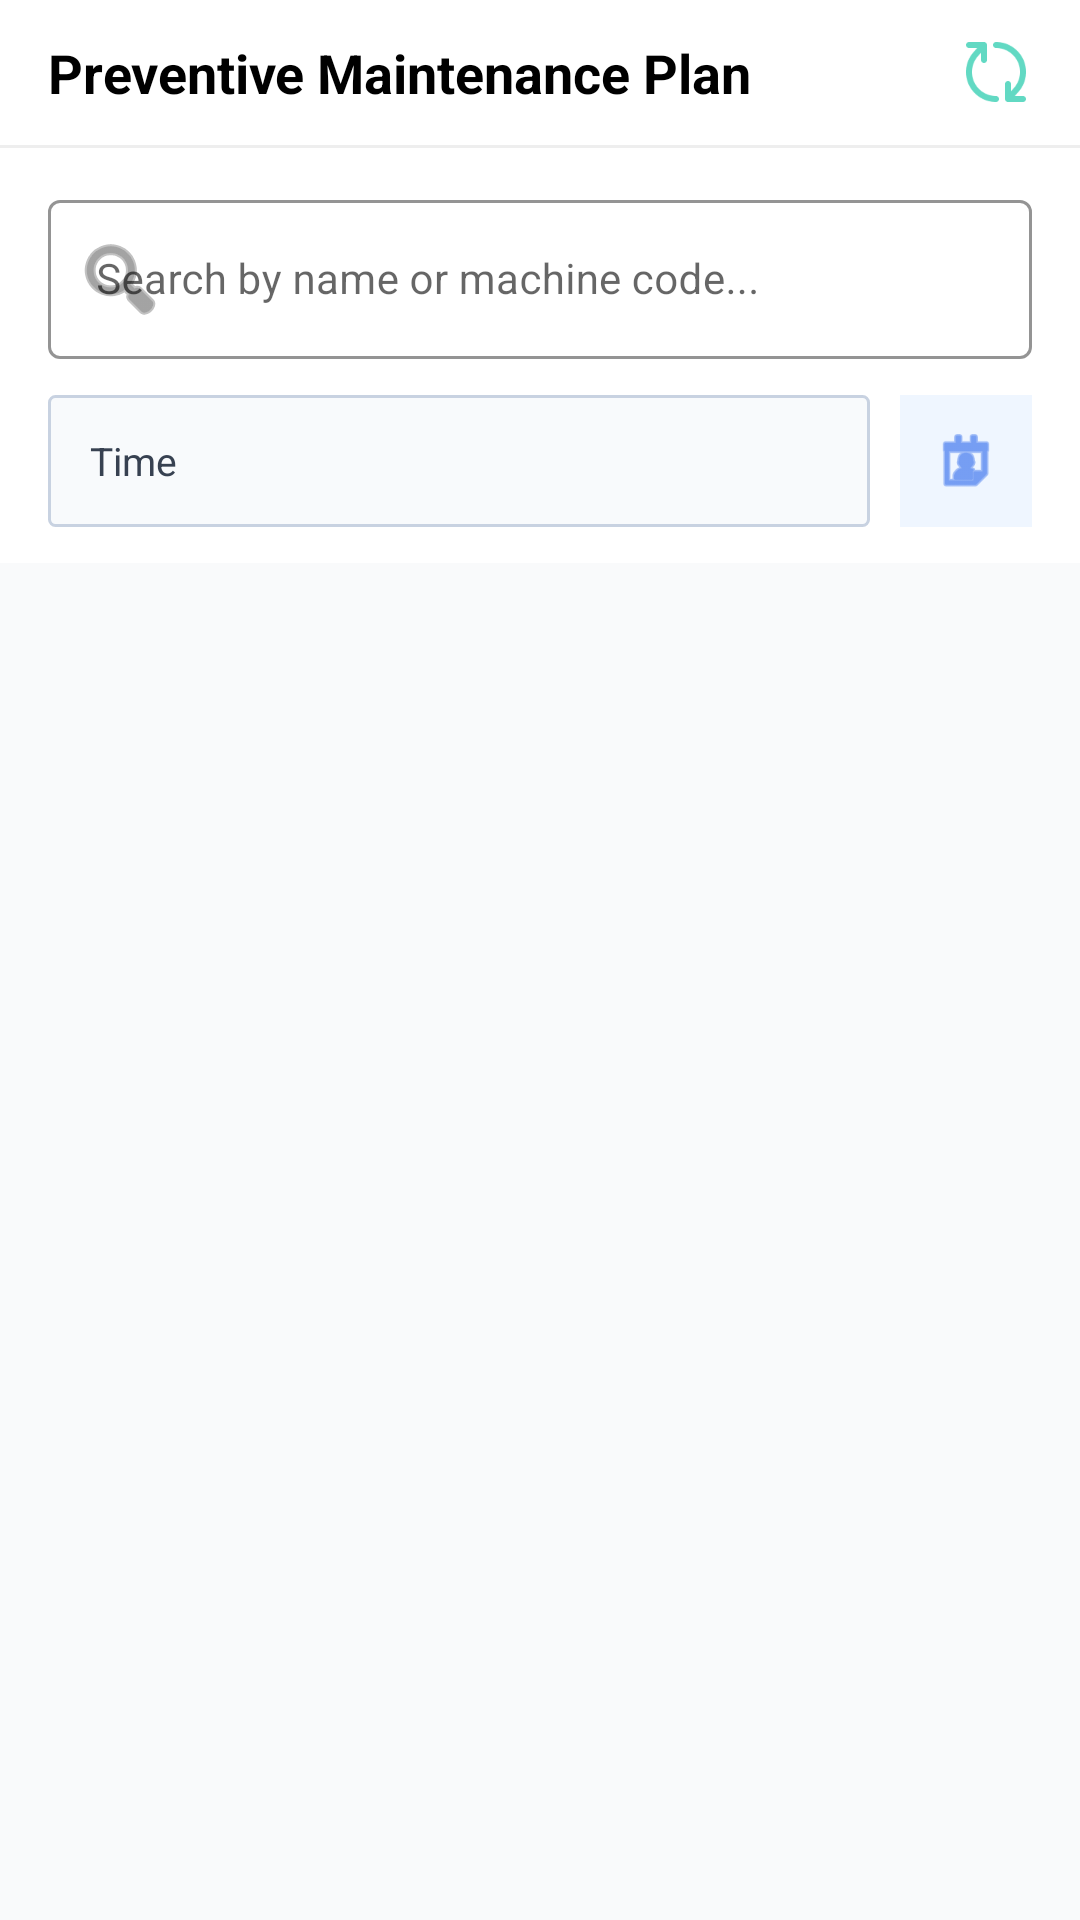

Where icons sit on this 1080w x 1920h app screen, as (x1, y1, x2, y2):
calendar: (942, 434, 990, 487)
refresh cw: (966, 42, 1026, 102)
